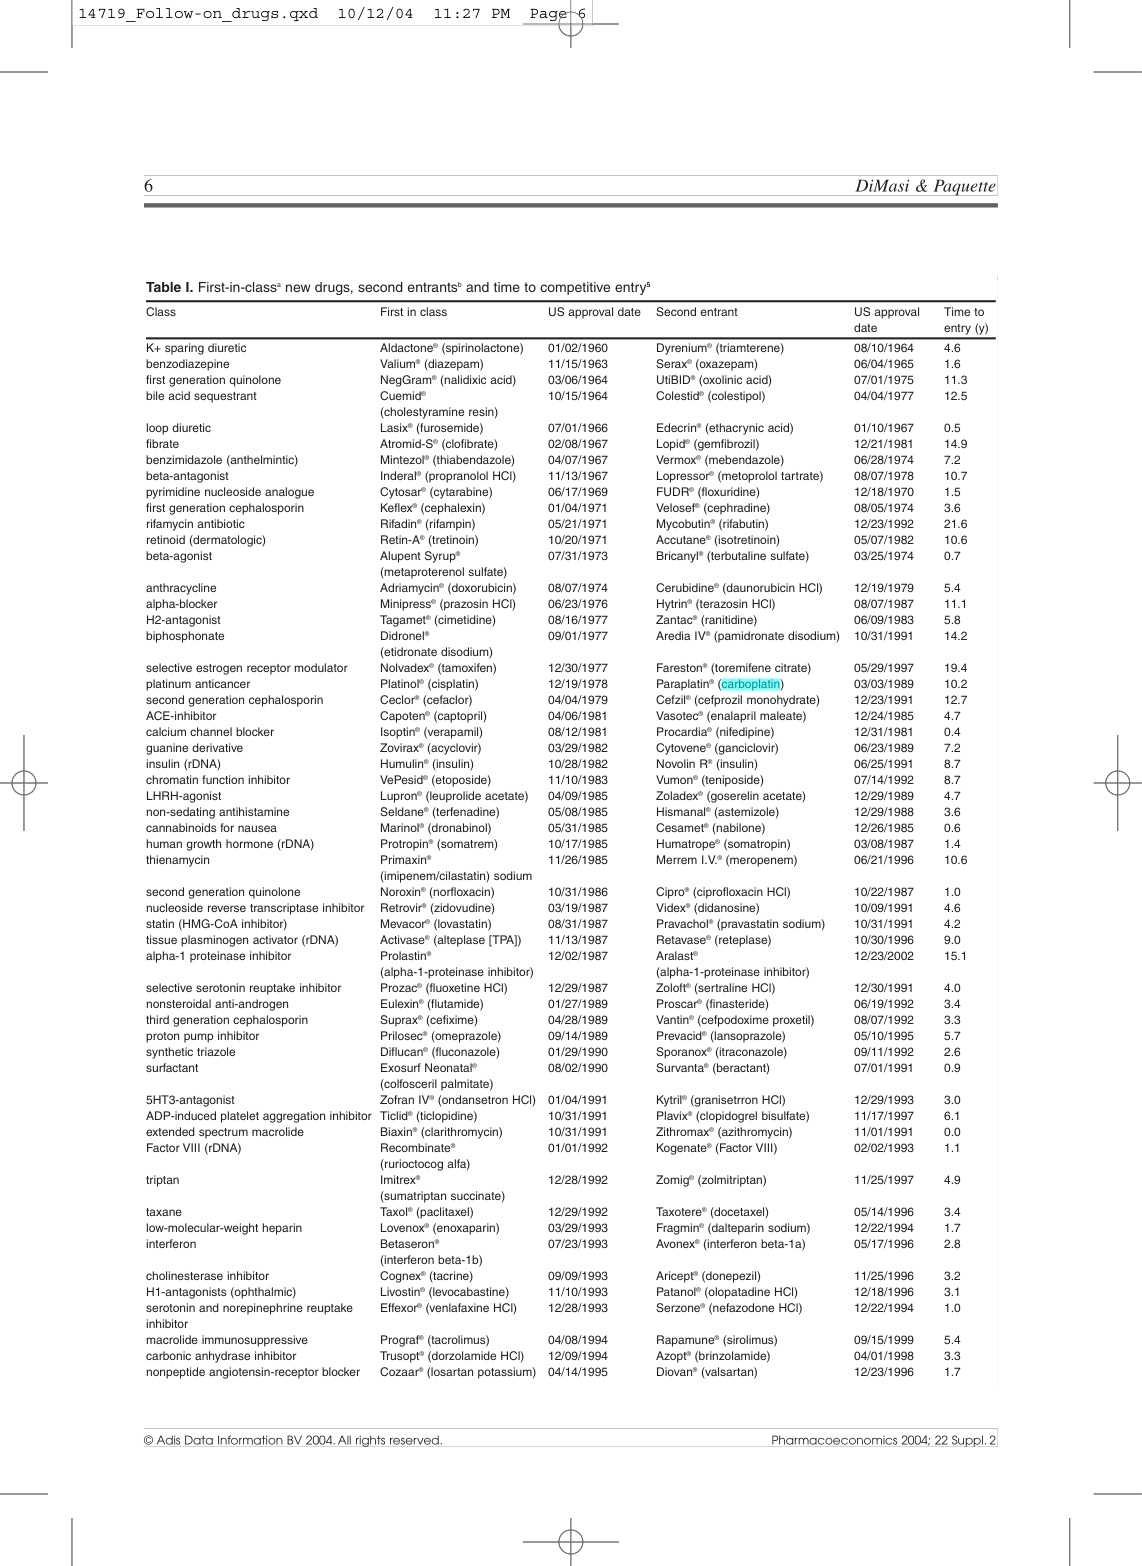partial_lined: (144, 298, 996, 1381)
